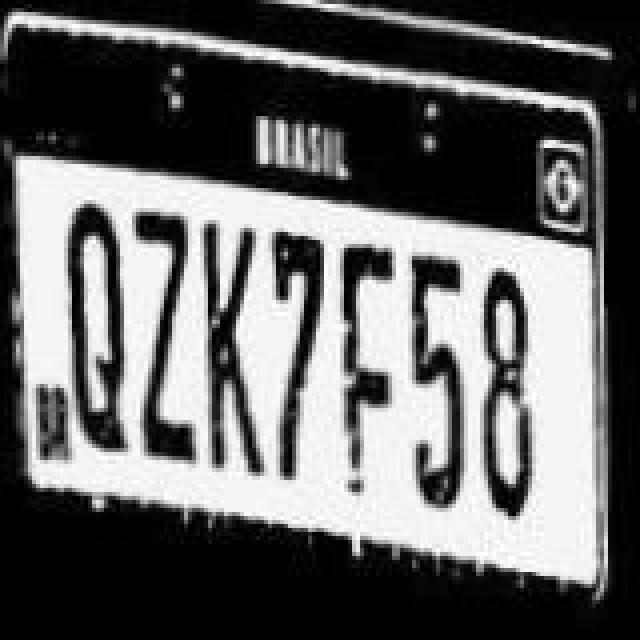5: (408, 256, 468, 512)
7: (270, 232, 330, 480)
8: (480, 272, 540, 524)
F: (340, 248, 404, 496)
K: (198, 224, 266, 480)
Q: (62, 200, 130, 452)
Z: (130, 210, 198, 462)
